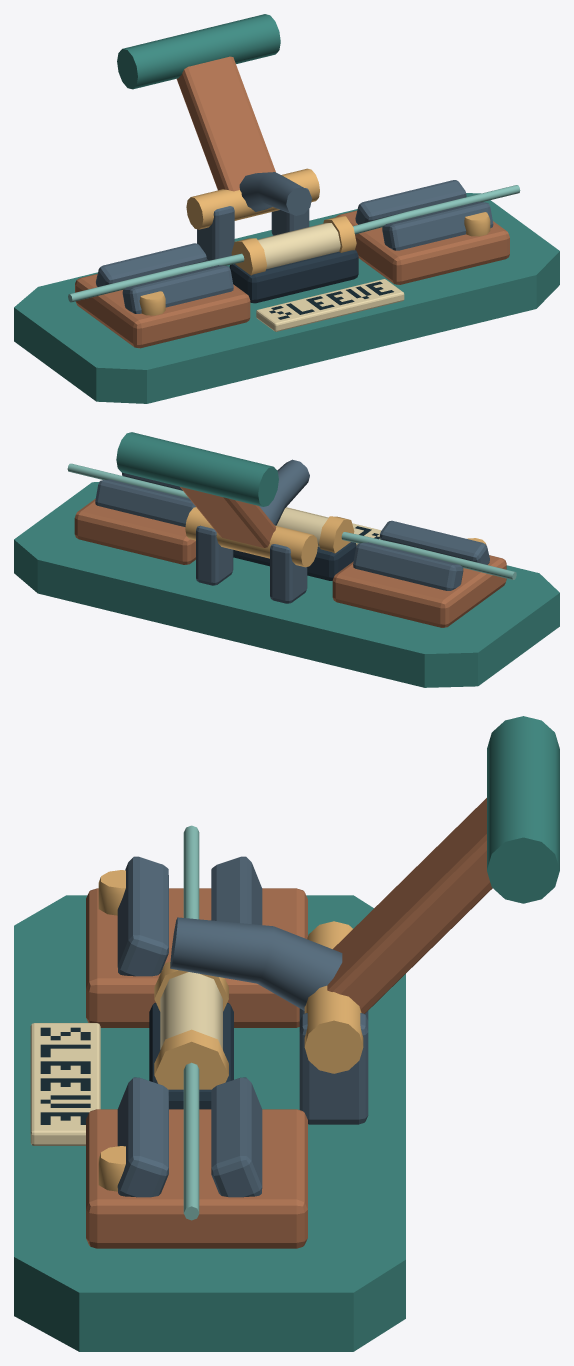
3 views of the same model, one above another, from view 1: azimuth 30°, elevation 25°; view 2: azimuth 150°, elevation 25°; view 3: azimuth 270°, elevation 25° (orthographic). The views are drawn at different scales.
Parts seen in each view (by area): view 1: PR129 enamel and hardware; view 2: PR129 enamel and hardware; view 3: PR129 enamel and hardware.
Boxes of the visible parts, box(x1,y1,x2,y2) form: PR129 enamel and hardware: box(14, 14, 559, 403); PR129 enamel and hardware: box(14, 432, 559, 687); PR129 enamel and hardware: box(14, 716, 559, 1351).
Size of the model in its own units: 0.4 by 0.1767 by 0.2322.
